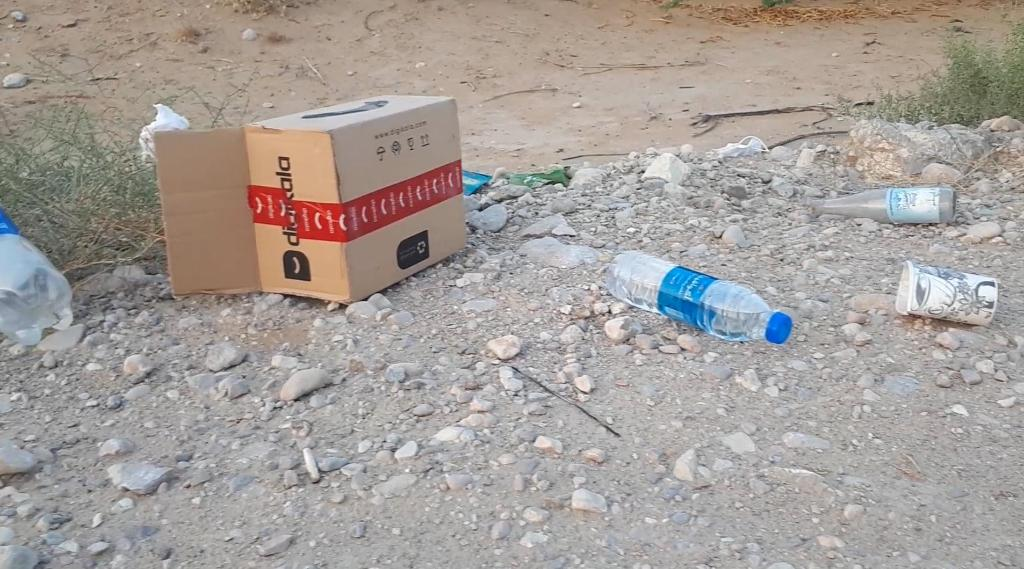garbage: (155, 92, 461, 296), (596, 237, 800, 353), (607, 250, 792, 344), (0, 185, 79, 356), (1, 204, 73, 346), (892, 250, 1003, 334), (803, 178, 975, 228), (810, 185, 956, 224), (531, 167, 571, 187), (510, 174, 553, 188)
